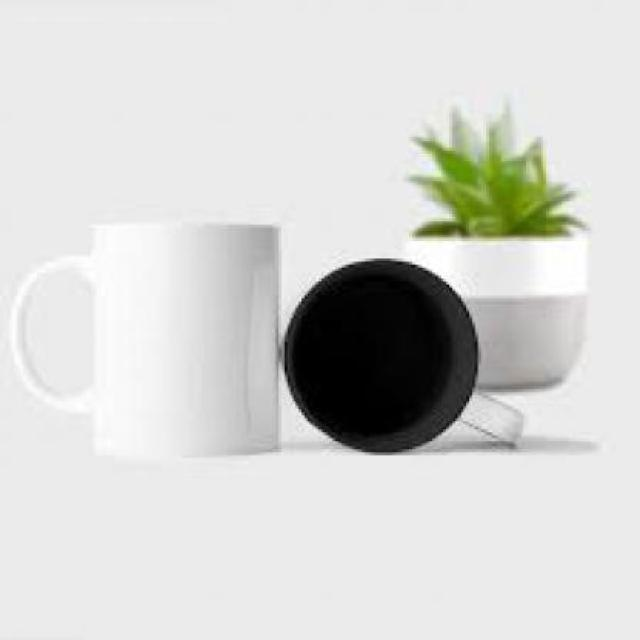cup: (8, 217, 284, 458), (275, 248, 528, 461)
